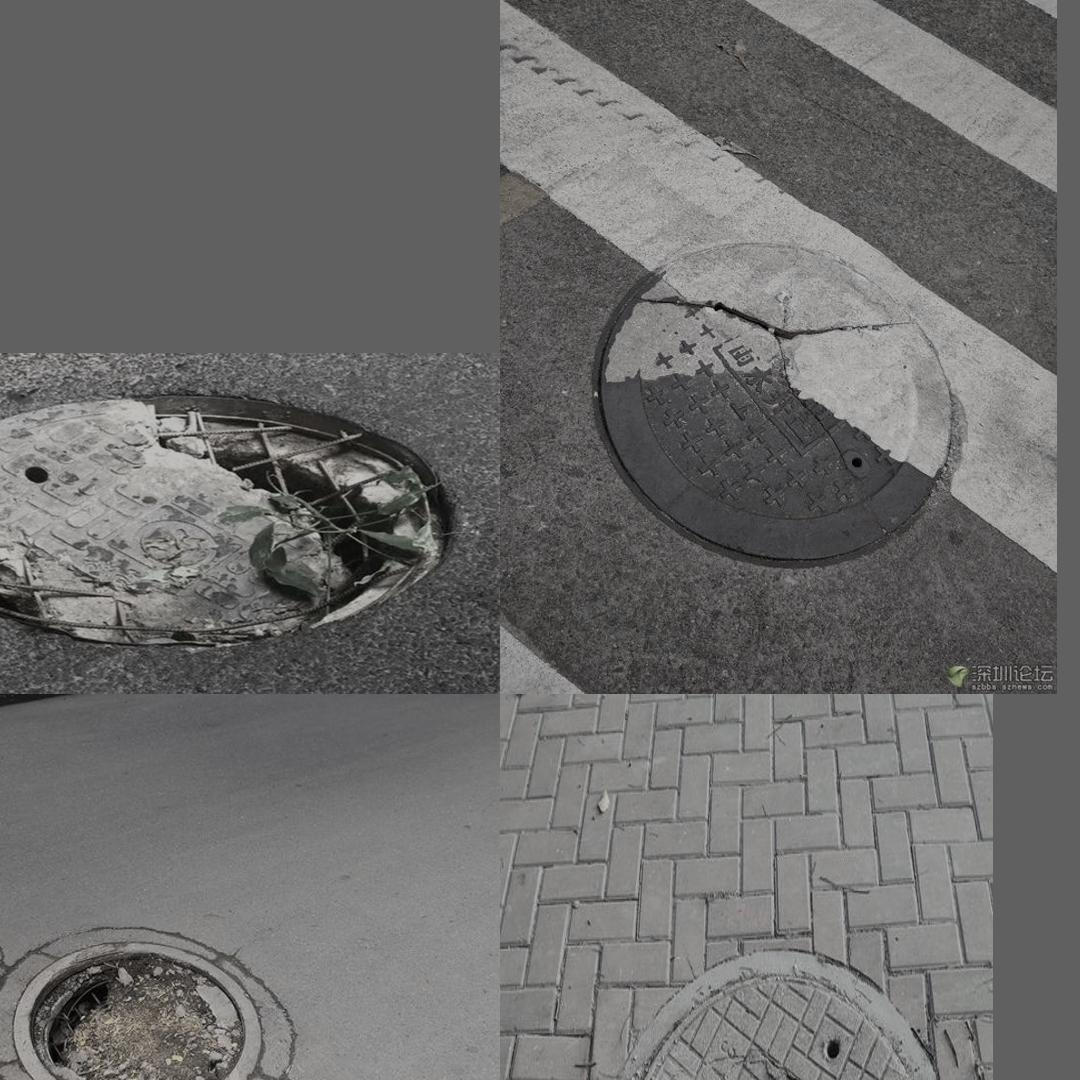broke: (571, 223, 982, 569), (0, 388, 462, 651), (574, 926, 972, 1080), (0, 912, 286, 1080)
